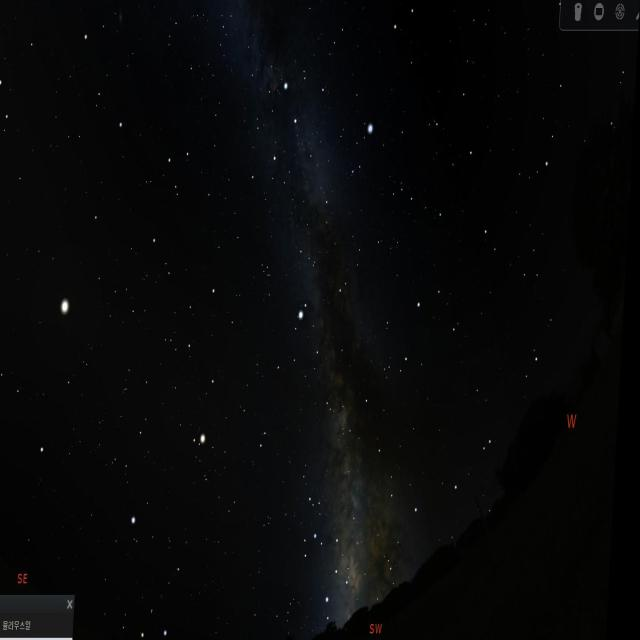aquila: (274, 297, 352, 425)
cygnus: (268, 72, 336, 224)
lyra: (342, 117, 383, 183)
sagittarius: (311, 520, 367, 622)
